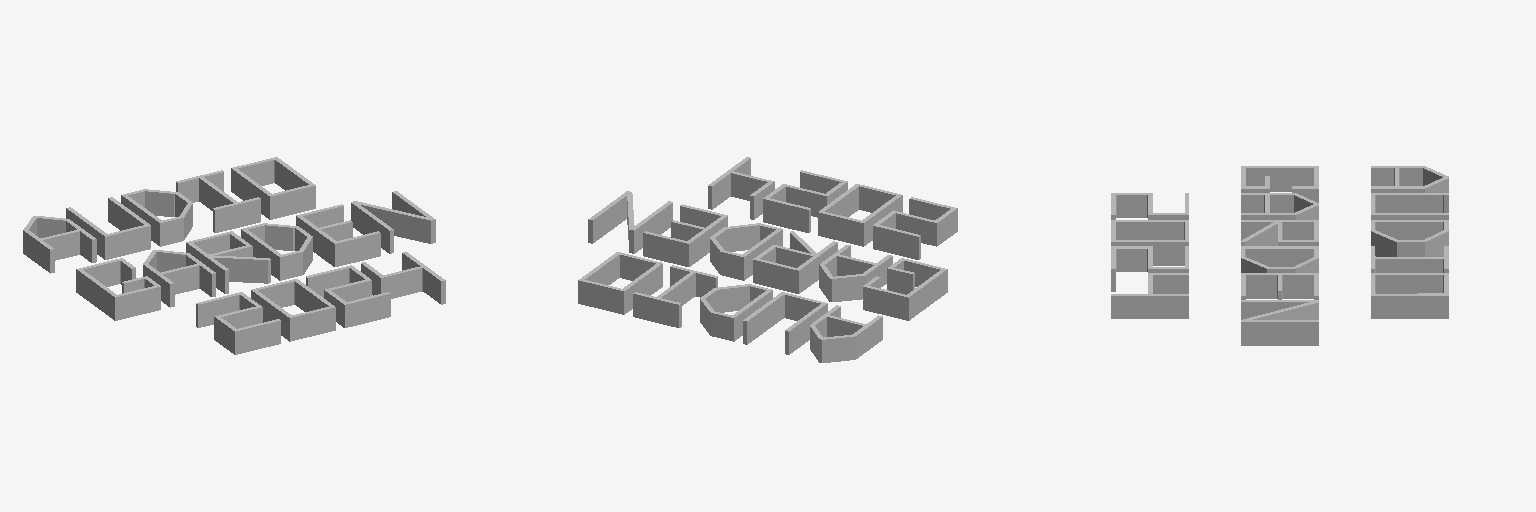
Rendered from audiogarden.obj.
The picture shows the model from 3 angles: view 1: azimuth 30°, elevation 25°; view 2: azimuth 150°, elevation 25°; view 3: azimuth 270°, elevation 25°; orthographic projection.
Visible parts, largest first — view 1: Text; view 2: Text; view 3: Text.
Boxes of the visible parts, box(x1,y1,x2,y2) form: Text: box(23, 157, 445, 354); Text: box(578, 157, 957, 362); Text: box(1111, 166, 1448, 345).
Bounding box in the file's own units: 2.85 × 0.2 × 2.6.